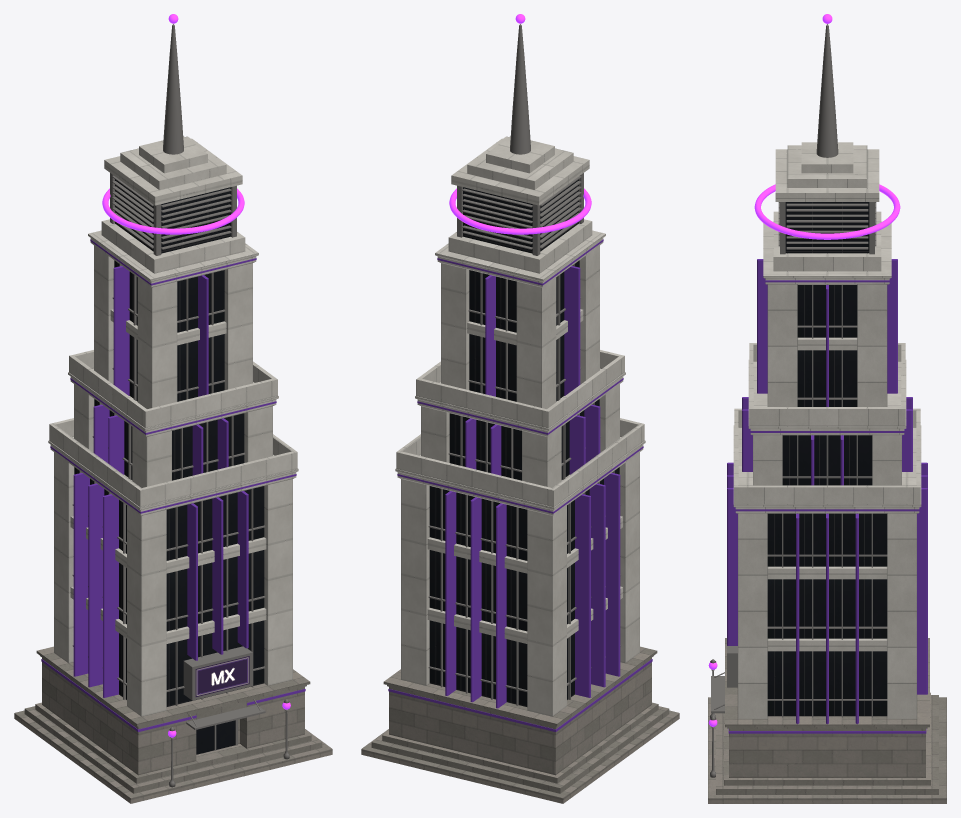
The model's file is s19-moscone-x.glb.
3 views of the same model, side by side, from view 1: azimuth 30°, elevation 25°; view 2: azimuth 150°, elevation 25°; view 3: azimuth 270°, elevation 25° (orthographic). The views are drawn at different scales.
Parts seen in each view (by area): view 1: Landmark · Moscone.X (Series 19); view 2: Landmark · Moscone.X (Series 19); view 3: Landmark · Moscone.X (Series 19).
Boxes of the visible parts, x1=… form: Landmark · Moscone.X (Series 19): x1=14, y1=14, x2=332, y2=803; Landmark · Moscone.X (Series 19): x1=361, y1=14, x2=679, y2=803; Landmark · Moscone.X (Series 19): x1=708, y1=14, x2=946, y2=803.
Size of the model in its own units: 12 by 41 by 12.
Materials: 7 (4 with a texture image).
